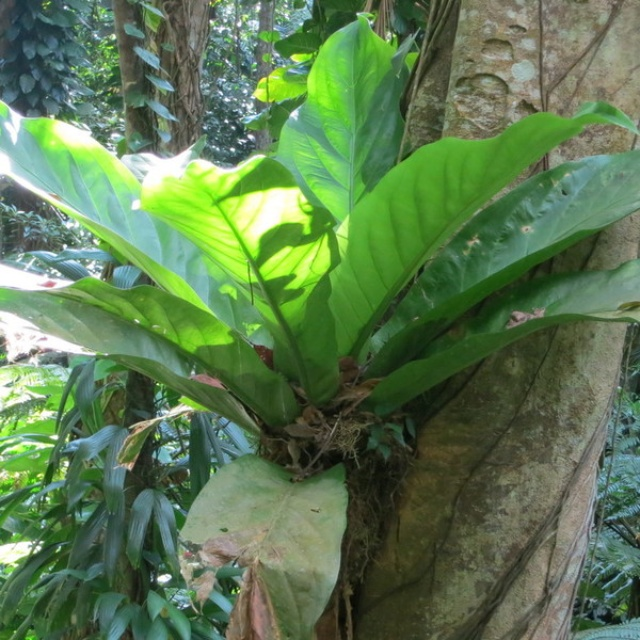obstacle: (7, 27, 590, 470), (26, 422, 249, 622)
